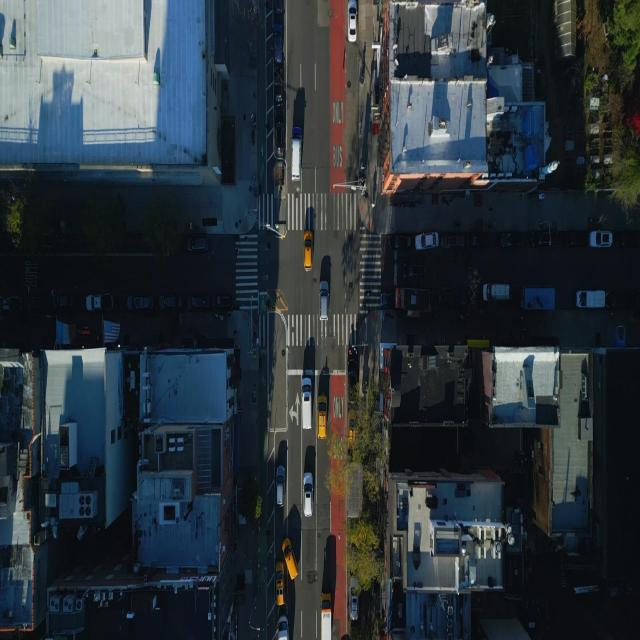Car: (522, 283, 556, 311), (282, 538, 299, 581), (159, 289, 183, 313), (605, 290, 631, 310), (303, 471, 314, 518), (317, 394, 328, 440), (414, 231, 438, 252), (388, 232, 413, 252), (350, 573, 360, 622), (500, 230, 524, 250), (274, 114, 286, 154), (126, 295, 154, 312), (347, 409, 358, 452), (275, 560, 285, 607), (612, 230, 638, 248), (403, 260, 426, 280), (563, 230, 588, 248), (318, 280, 329, 320), (588, 231, 612, 249), (276, 465, 286, 508), (347, 0, 357, 43), (304, 230, 314, 272), (440, 234, 466, 250), (187, 294, 210, 312), (273, 23, 283, 64), (212, 294, 234, 312), (530, 232, 554, 248), (2, 296, 23, 314), (466, 232, 489, 248), (51, 293, 74, 309), (187, 237, 208, 253), (275, 67, 283, 108), (380, 291, 393, 308)
Truck: (395, 287, 432, 312), (320, 592, 332, 640), (86, 293, 113, 313)
Van: (290, 126, 303, 182), (300, 378, 312, 431), (575, 289, 606, 309), (483, 282, 511, 303), (278, 613, 290, 640)
